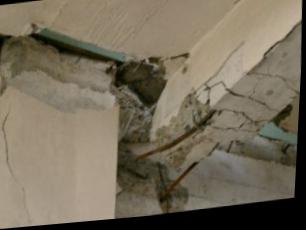crack: (3, 105, 35, 227), (195, 45, 245, 97), (207, 85, 282, 117), (247, 77, 301, 101), (213, 124, 262, 138), (227, 114, 268, 129), (231, 0, 248, 11), (250, 89, 258, 101), (0, 128, 5, 131)
damage: (0, 33, 220, 218), (272, 110, 294, 132)
